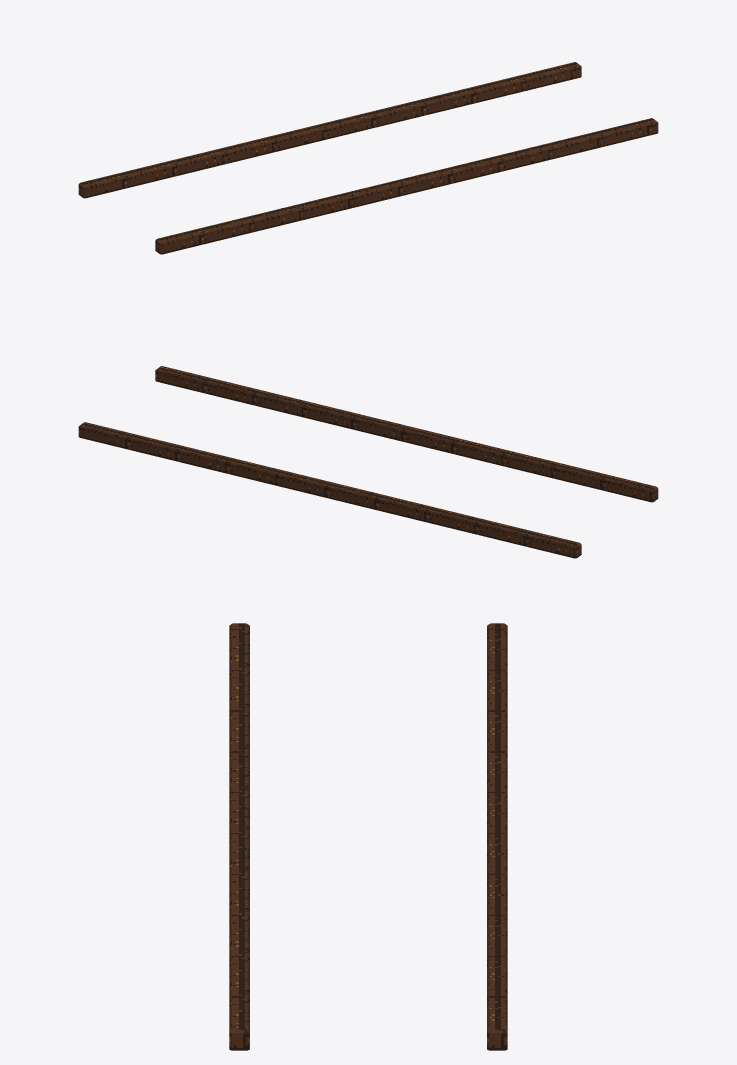
The model's file is dgn.ceiling__flat_4x3.glb.
The picture shows the model from 3 angles, top to bottom: view 1: azimuth 30°, elevation 25°; view 2: azimuth 150°, elevation 25°; view 3: azimuth 270°, elevation 25°; orthographic projection. The views are drawn at different scales.
Visible parts, largest first — view 1: kit_beams; view 2: kit_beams; view 3: kit_beams.
Part boxes in pixels (x1,y1,x2,y2): kit_beams: [78, 62, 658, 254]; kit_beams: [78, 366, 658, 558]; kit_beams: [229, 623, 507, 1050].
Bounding box in the file's own units: 15 × 0.34 × 11.
Materials: 2 (2 with a texture image).
